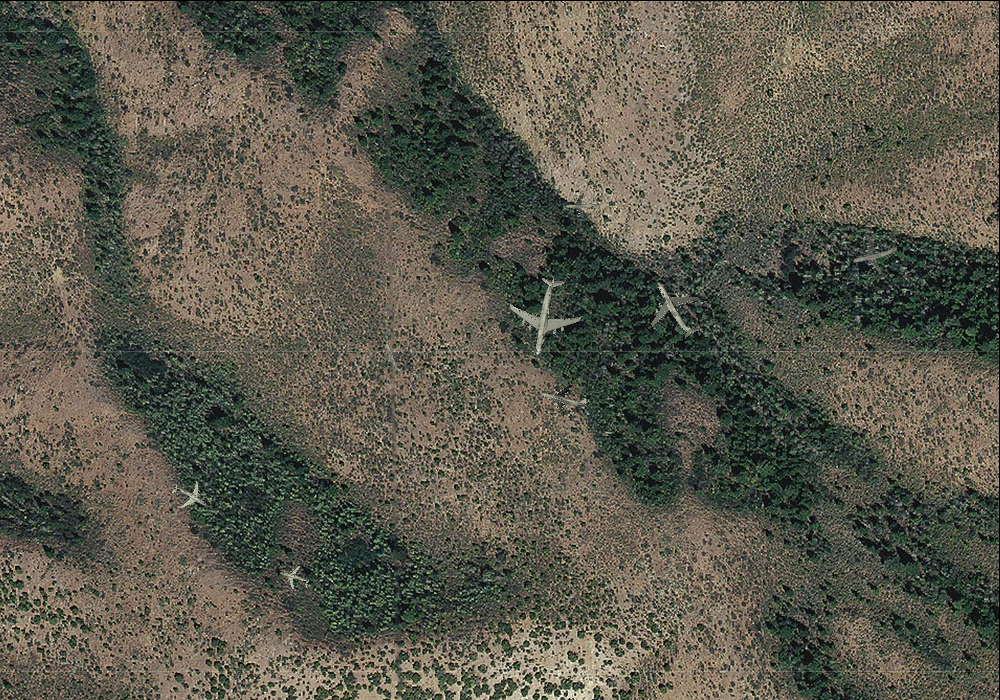plane: (501, 271, 589, 362), (633, 265, 717, 351), (535, 370, 595, 424), (847, 226, 904, 281), (164, 472, 215, 521), (372, 335, 415, 380), (275, 560, 313, 596), (564, 187, 600, 220)
